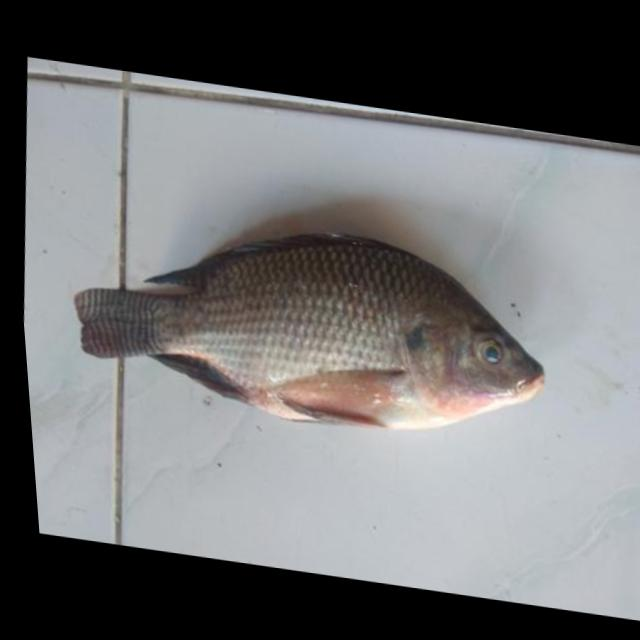Tilapia: (54, 192, 562, 457)
